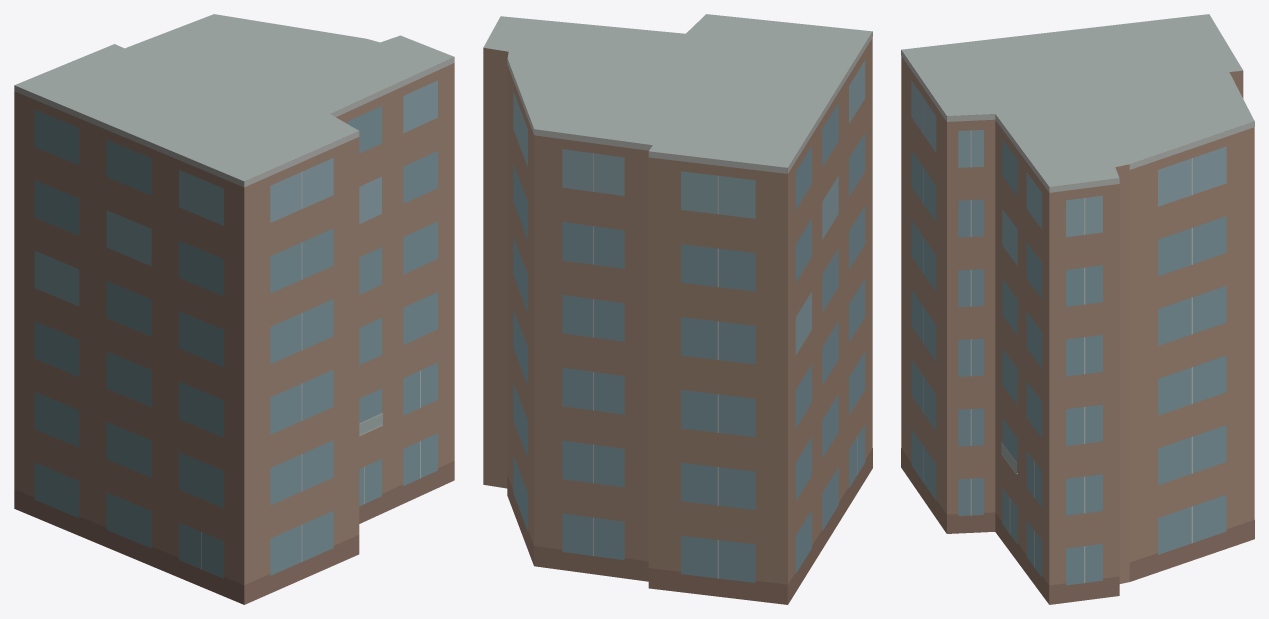
The model's file is survey-upis-32498043.glb.
The picture shows the model from 3 angles, left to right: view 1: azimuth 30°, elevation 25°; view 2: azimuth 150°, elevation 25°; view 3: azimuth 270°, elevation 25°; orthographic projection. The views are drawn at different scales.
Parts seen in each view (by area): view 1: survey-upis-32498043.tmp; view 2: survey-upis-32498043.tmp; view 3: survey-upis-32498043.tmp.
Part boxes in pixels (x1,y1,x2,y2): survey-upis-32498043.tmp: [14, 14, 454, 604]; survey-upis-32498043.tmp: [483, 14, 872, 604]; survey-upis-32498043.tmp: [901, 14, 1254, 604].
Size of the model in its own units: 15.55 by 17.5 by 13.43.
